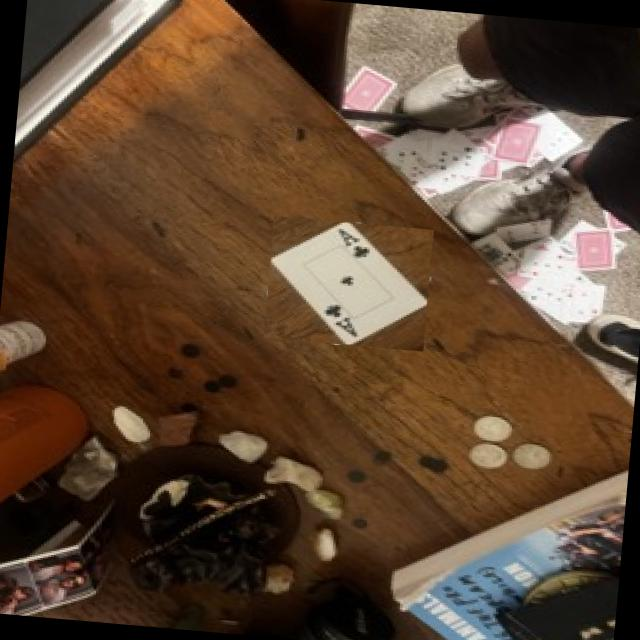Ace of clubs: (270, 221, 427, 344)
